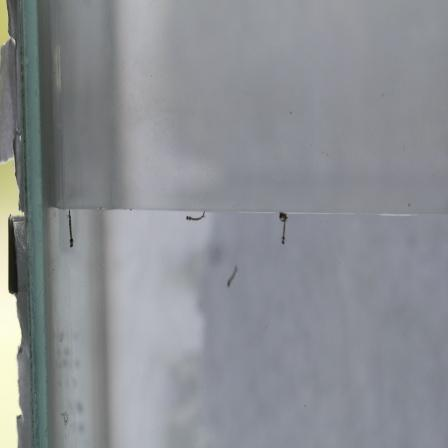Jentik-Nyamuk: (62, 206, 80, 253), (275, 211, 292, 248), (182, 208, 209, 226), (223, 264, 240, 290)
